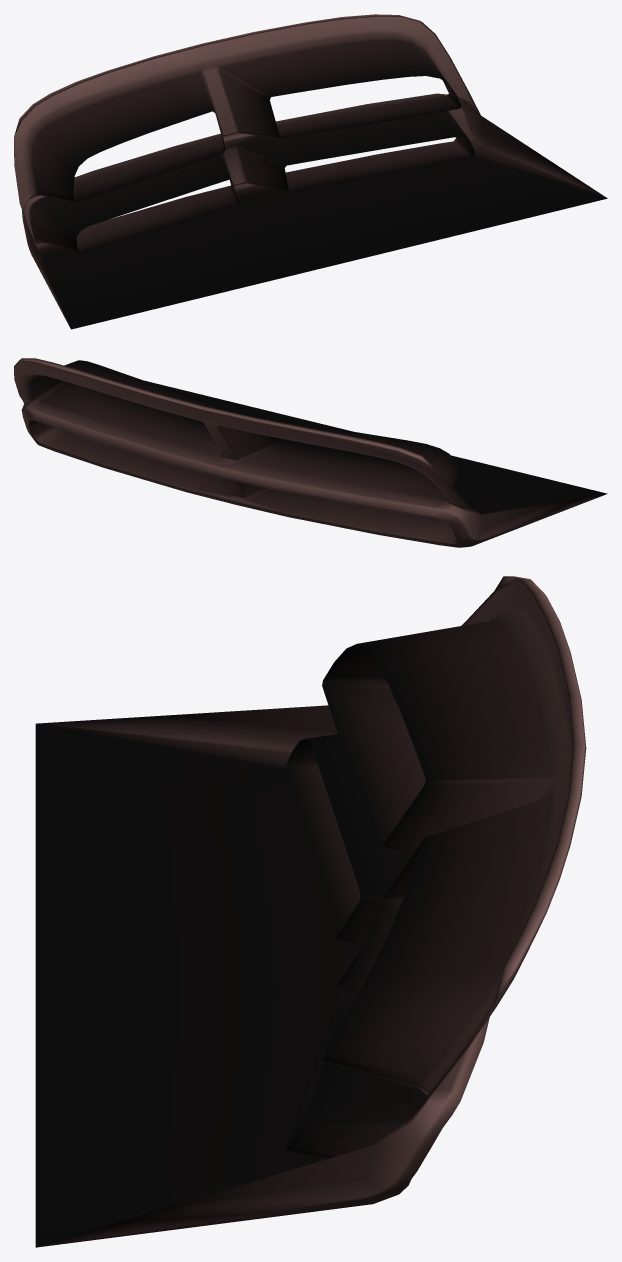
File: Viper_RB_04_Trim.fbx
3 views of the same model, one above another, from view 1: azimuth 30°, elevation 25°; view 2: azimuth 150°, elevation 25°; view 3: azimuth 270°, elevation 25° (orthographic). The views are drawn at different scales.
Visible parts, largest first — view 1: Viper_RB_04_Trim; view 2: Viper_RB_04_Trim; view 3: Viper_RB_04_Trim.
Part boxes in pixels (bbox=[...]): Viper_RB_04_Trim: bbox=[14, 14, 607, 329]; Viper_RB_04_Trim: bbox=[14, 358, 607, 547]; Viper_RB_04_Trim: bbox=[35, 576, 586, 1247].
Size of the model in its own units: 139 by 30.92 by 61.87.
